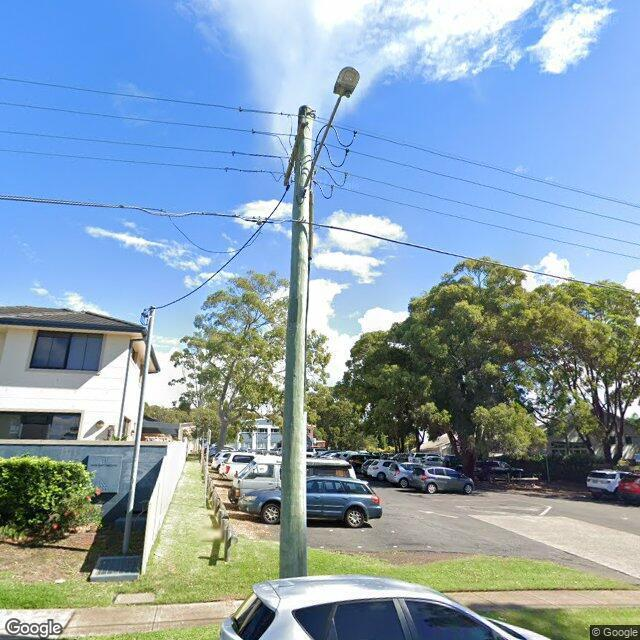crossarm: (283, 133, 299, 187)
steel-pole: (122, 305, 156, 554)
streetlight: (299, 66, 360, 199)
timber-pole: (278, 105, 315, 580)
